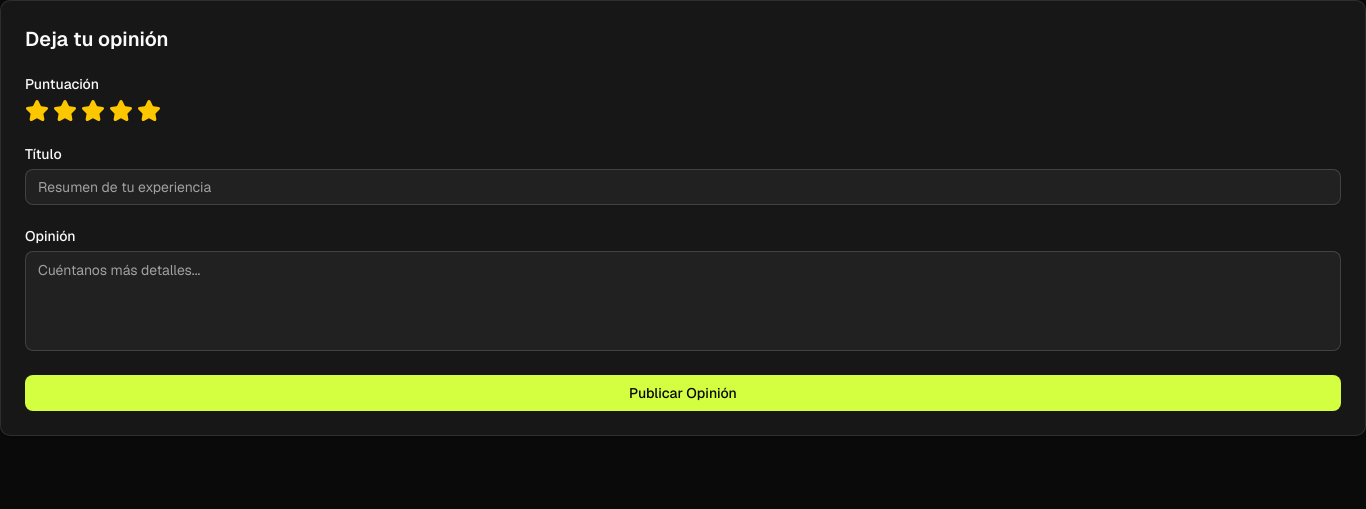
Scenario: ReviewForm › shows validation errors when submitted empty
The image size is (1366, 509).
Click the button "Publicar Opinión": (683, 393) [25, 375, 1341, 411]
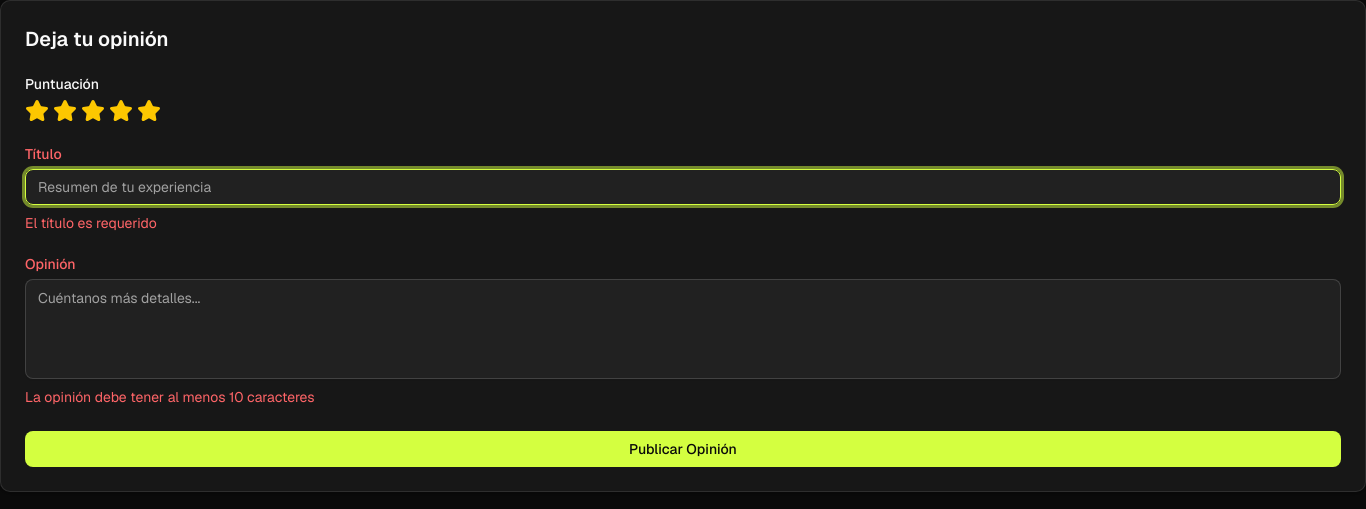
expect the text "El título es requerido" is shown: met, box [25, 214, 157, 232]
